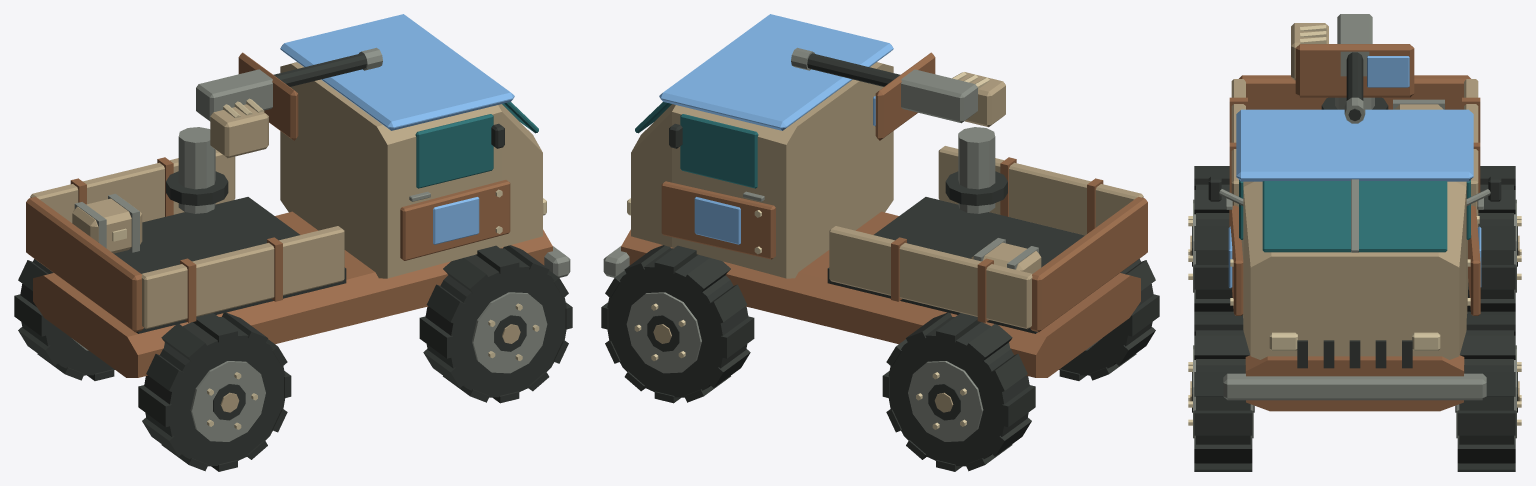
Rendered from technical.glb.
3 views of the same model, side by side, from view 1: azimuth 30°, elevation 25°; view 2: azimuth 150°, elevation 25°; view 3: azimuth 270°, elevation 25° (orthographic). The views are drawn at different scales.
Visible parts, largest first — view 1: Hull, Turret; view 2: Hull, Turret; view 3: Hull, Turret.
Part boxes in pixels (x1,y1,x2,y2): Hull: [14, 14, 572, 471]; Turret: [166, 47, 382, 213]; Hull: [601, 14, 1159, 471]; Turret: [791, 47, 1007, 213]; Hull: [1188, 75, 1521, 471]; Turret: [1291, 14, 1414, 123].
Size of the model in its own units: 2.2 by 1.52 by 1.38.
